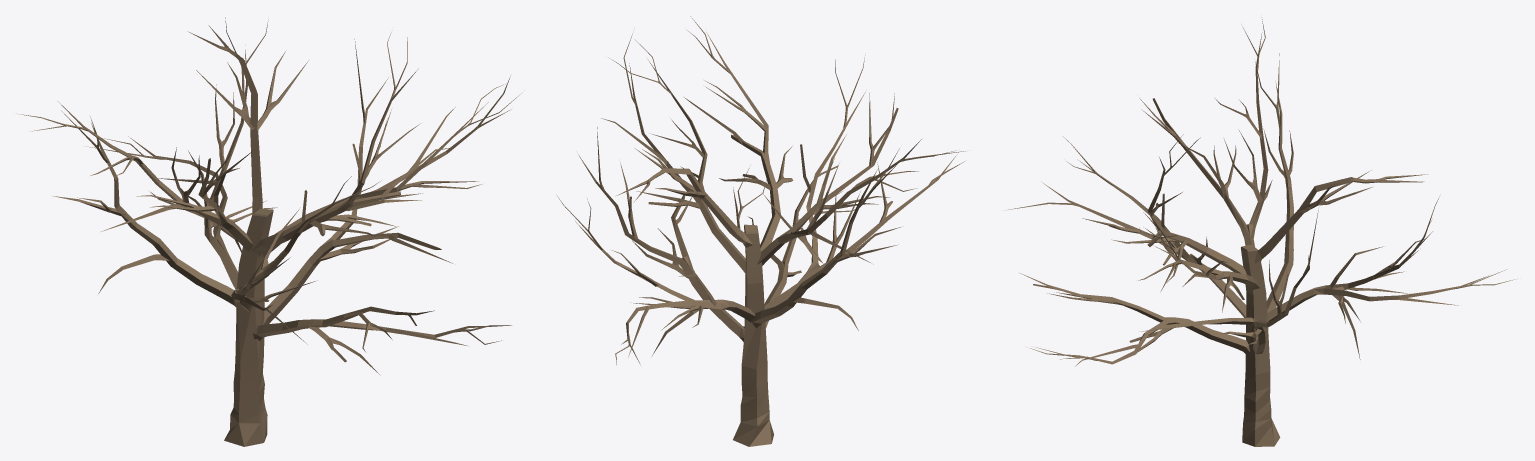
Rendered from tree_bare_a_5.FBX.
The picture shows the model from 3 angles, left to right: view 1: azimuth 30°, elevation 25°; view 2: azimuth 150°, elevation 25°; view 3: azimuth 270°, elevation 25°; orthographic projection. The views are drawn at different scales.
Visible parts, largest first — view 1: tree_bare_a_5; view 2: tree_bare_a_5; view 3: tree_bare_a_5.
Boxes of the visible parts, box(x1,y1,x2,y2) form: tree_bare_a_5: box(16, 17, 524, 446); tree_bare_a_5: box(557, 16, 965, 446); tree_bare_a_5: box(1006, 17, 1516, 446).
Bounding box in the file's own units: 6.98 × 6.16 × 8.13.
